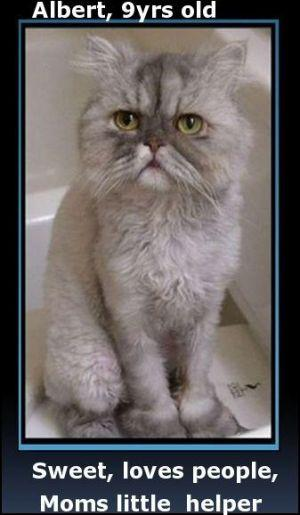persian: (54, 28, 271, 222)
